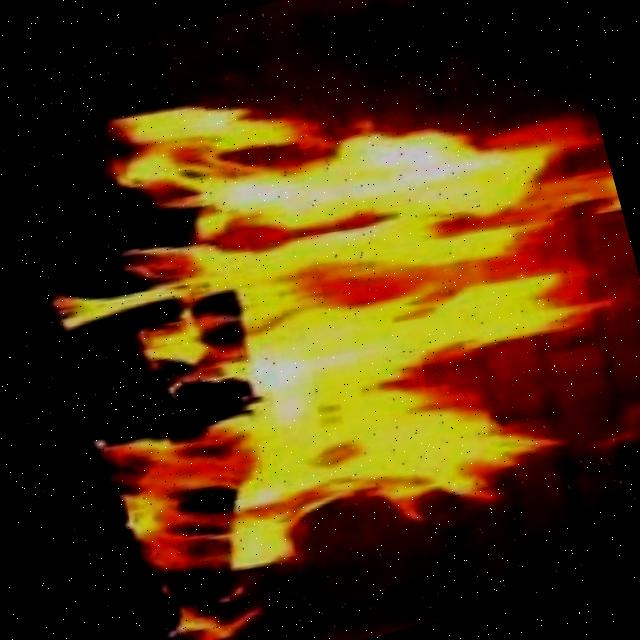fire: (68, 51, 640, 625)
